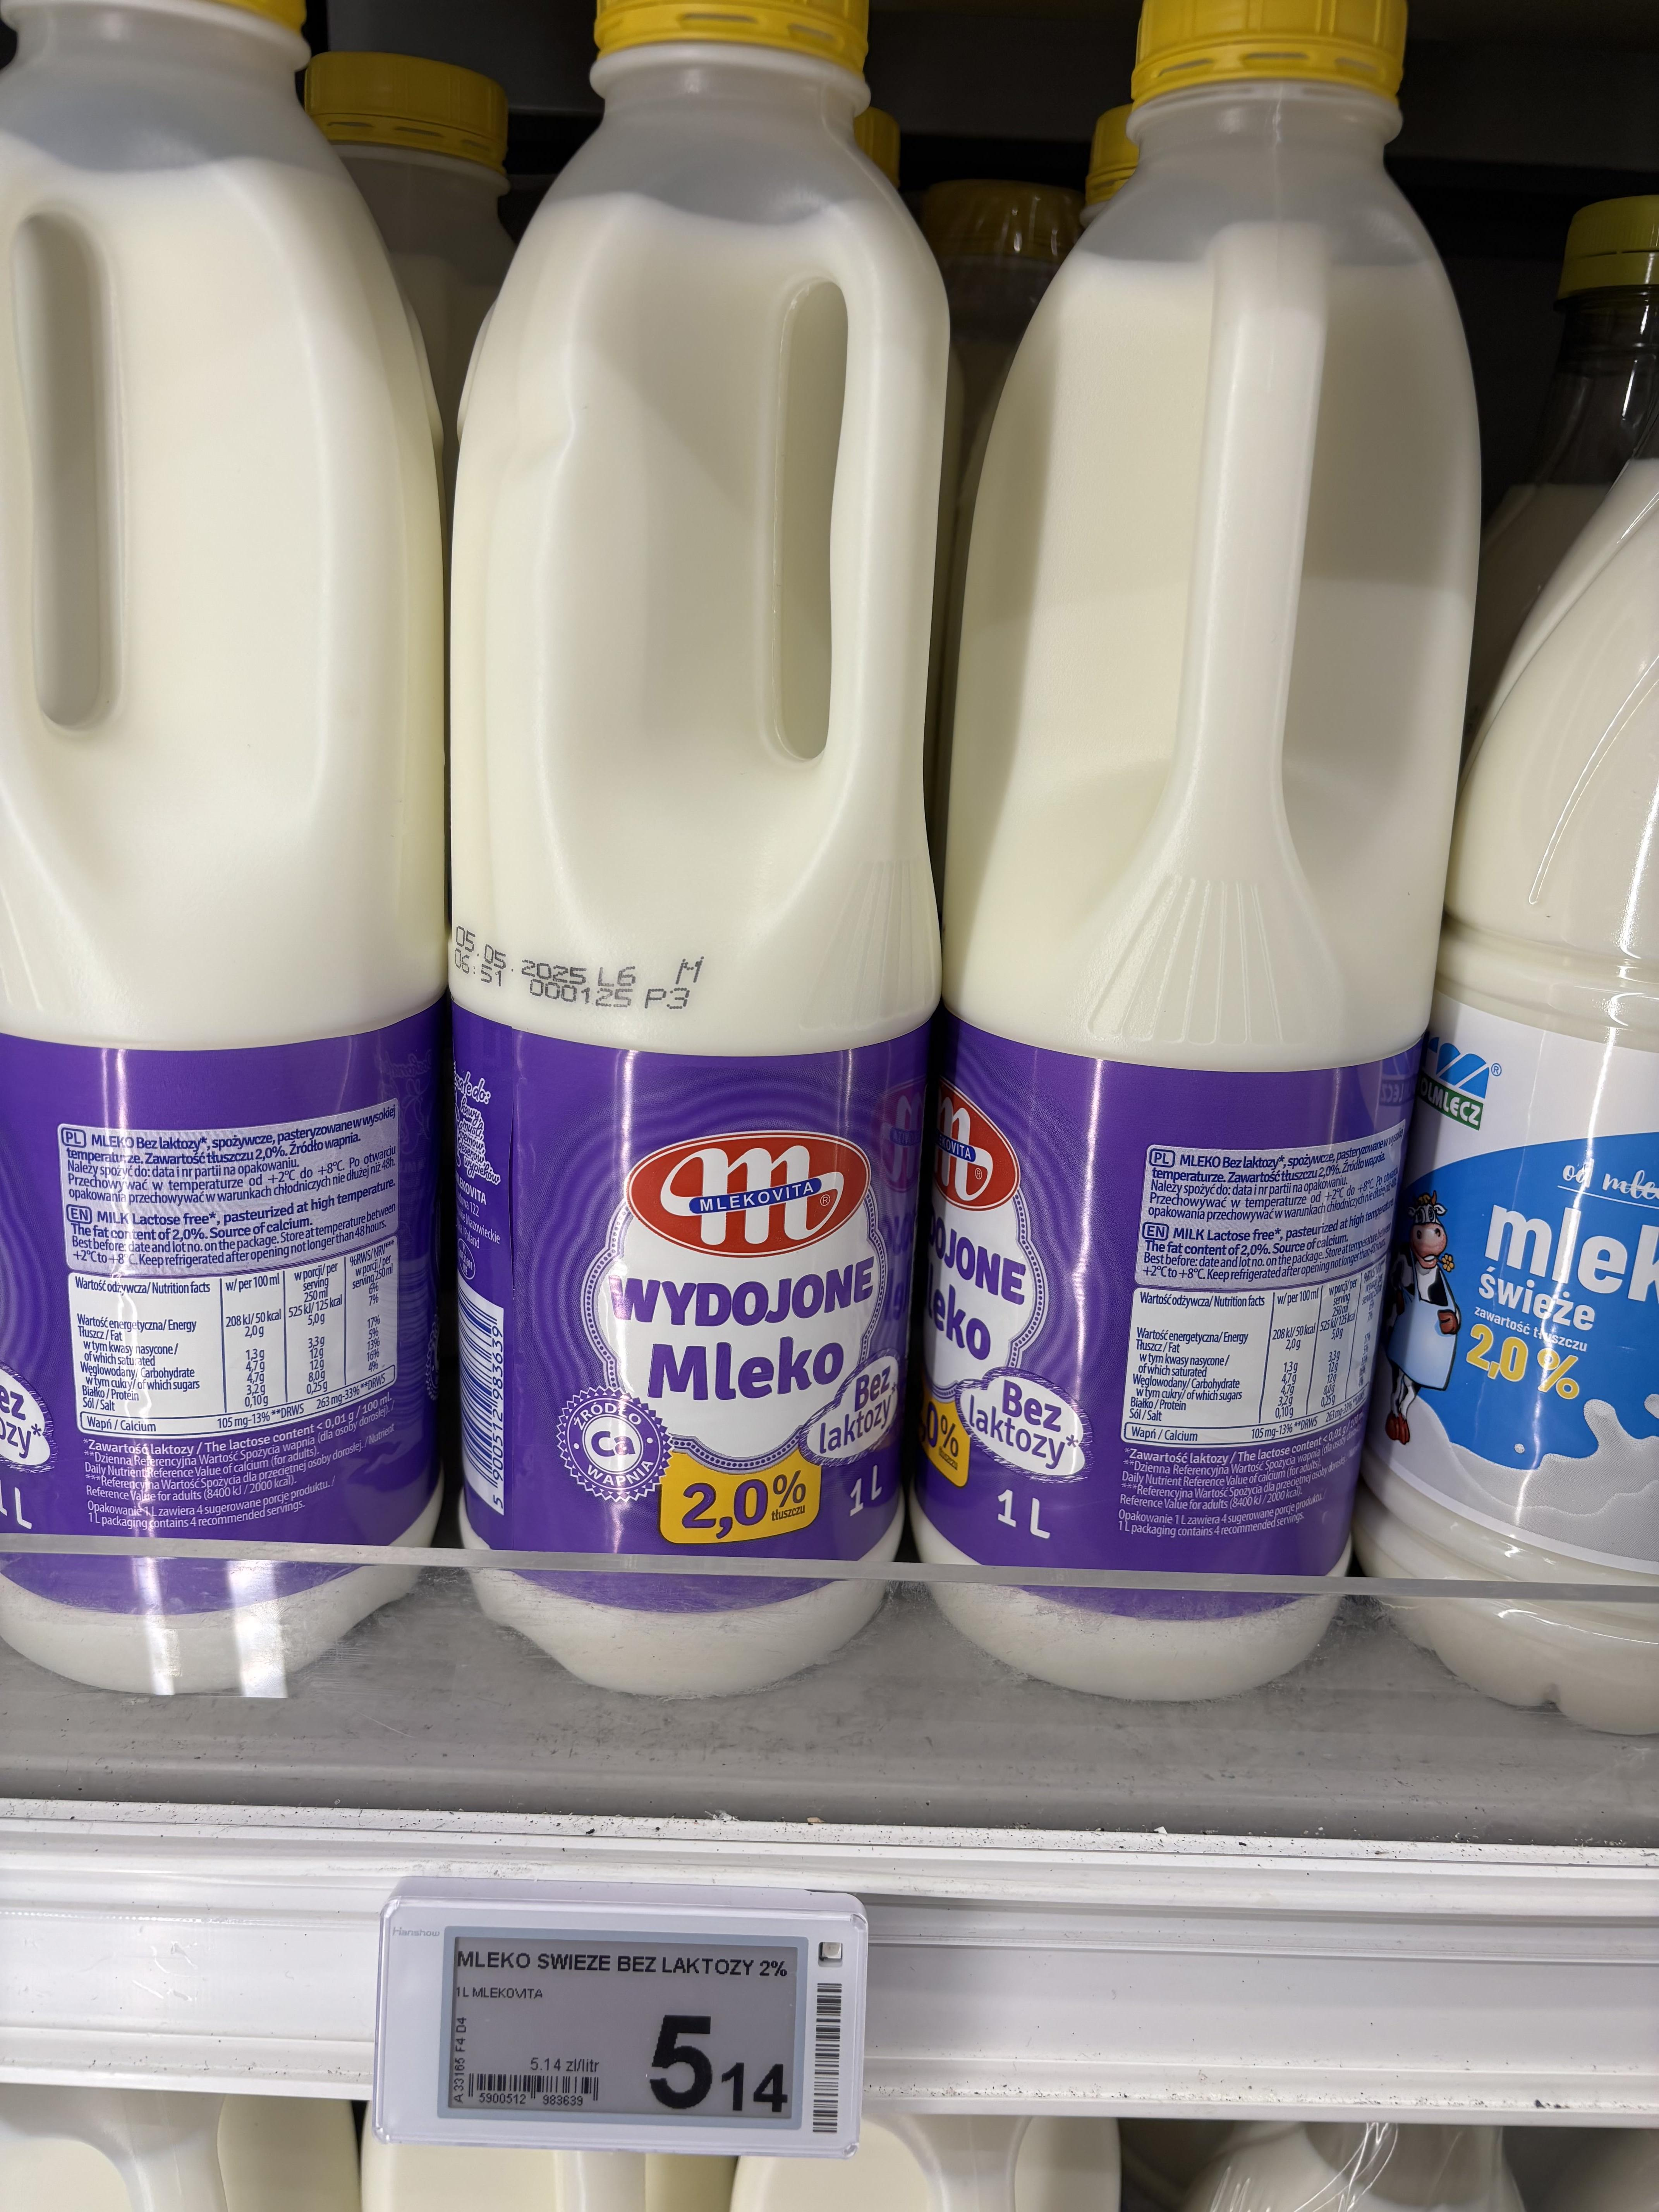Milk: (443, 115, 1000, 1778), (0, 68, 455, 1756), (981, 59, 1401, 1810)
